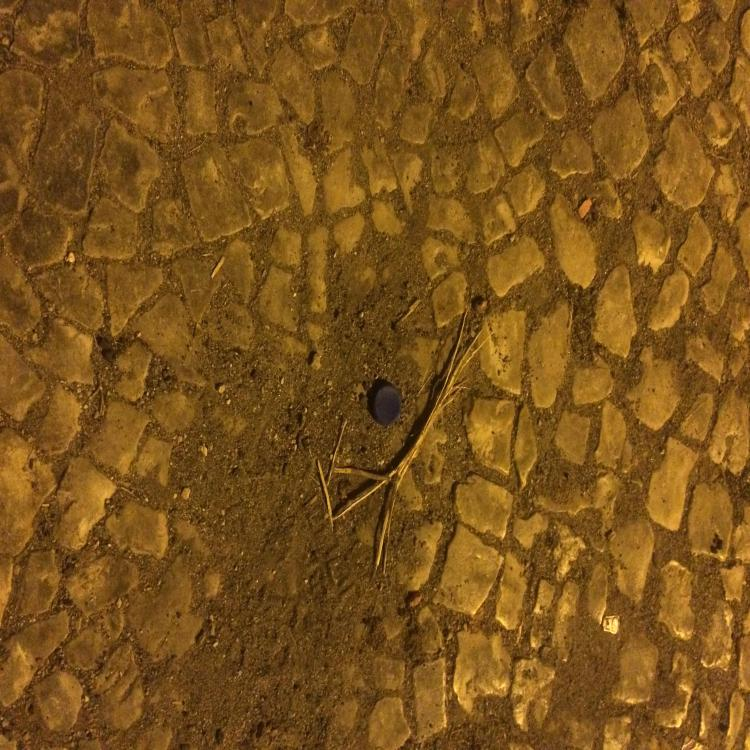Plastic bottle cap: (374, 385, 402, 424)
